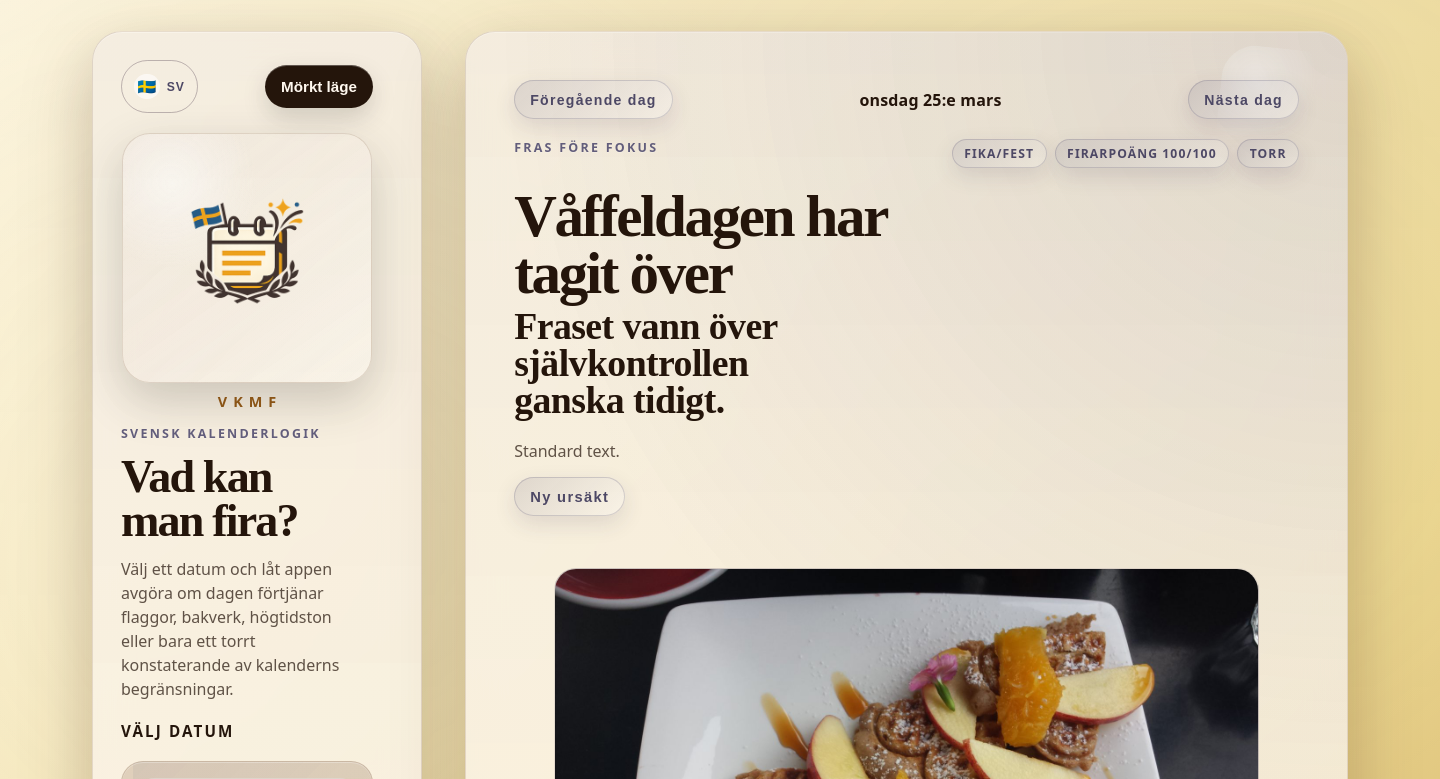
Test case: switches the interface to English and persists the locale
The width and height of the screenshot is (1440, 779).
Click the button with aria-label "Språk": point(160, 87) [121,60,198,113]
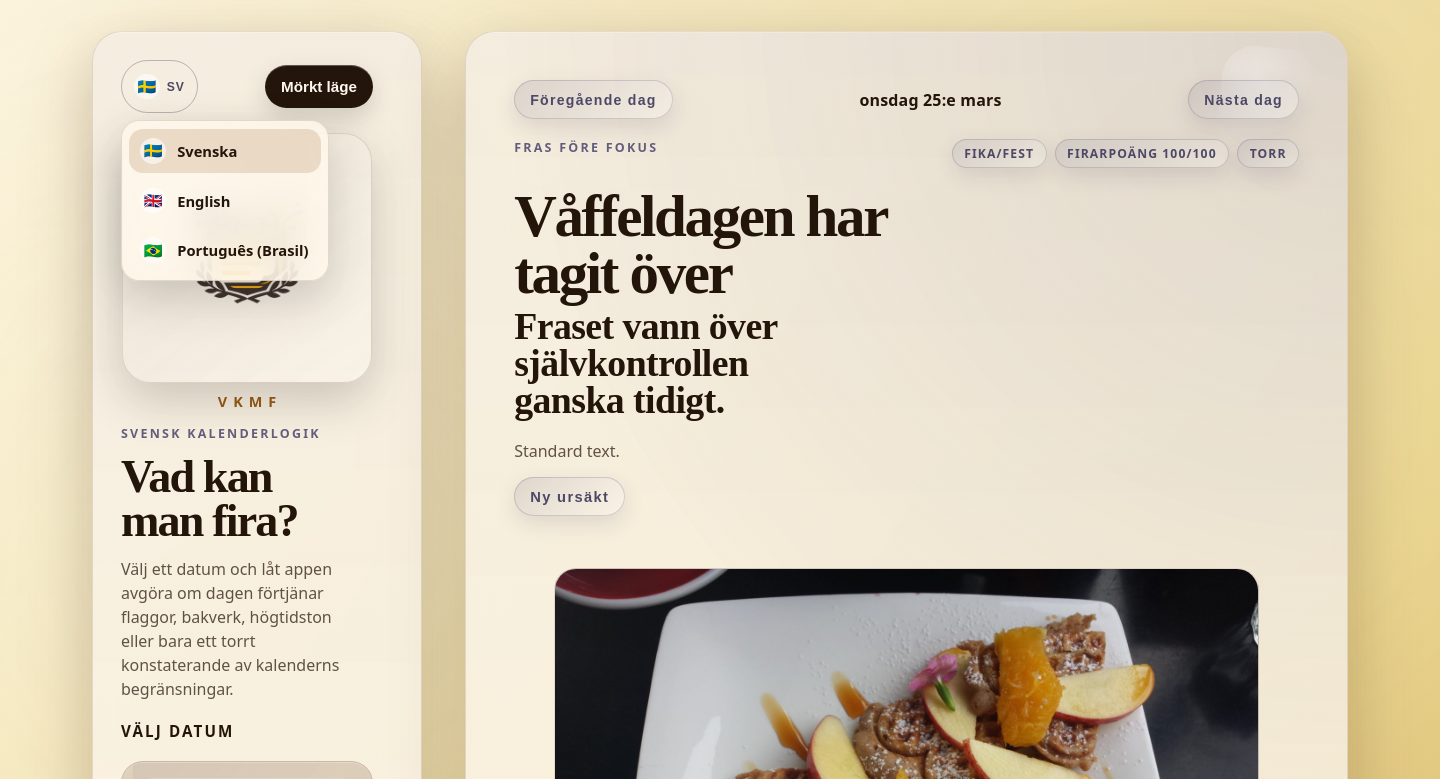
Click the menu item "🇬🇧 English": point(225, 200) [129,178,321,223]
(page scrolled)
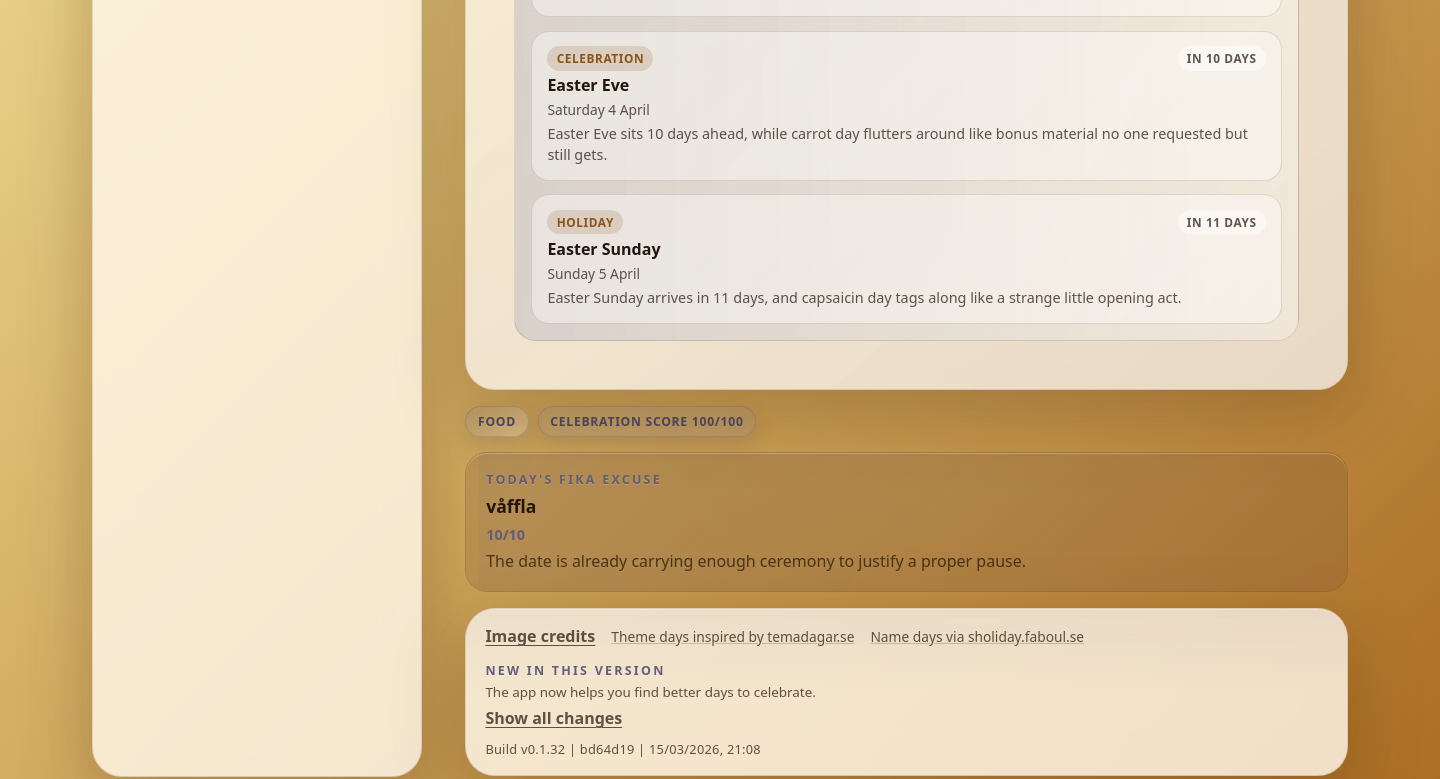
Check: the button "Image credits" is shown, box [485,625,595,647]
